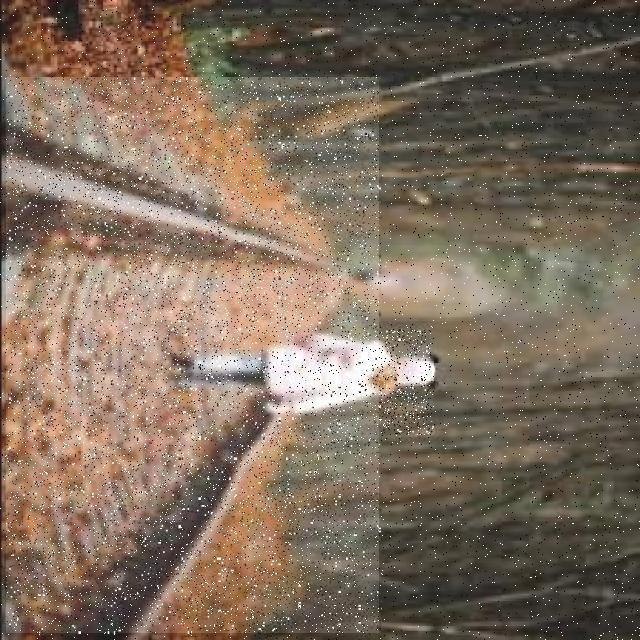rail: (8, 79, 380, 634)
